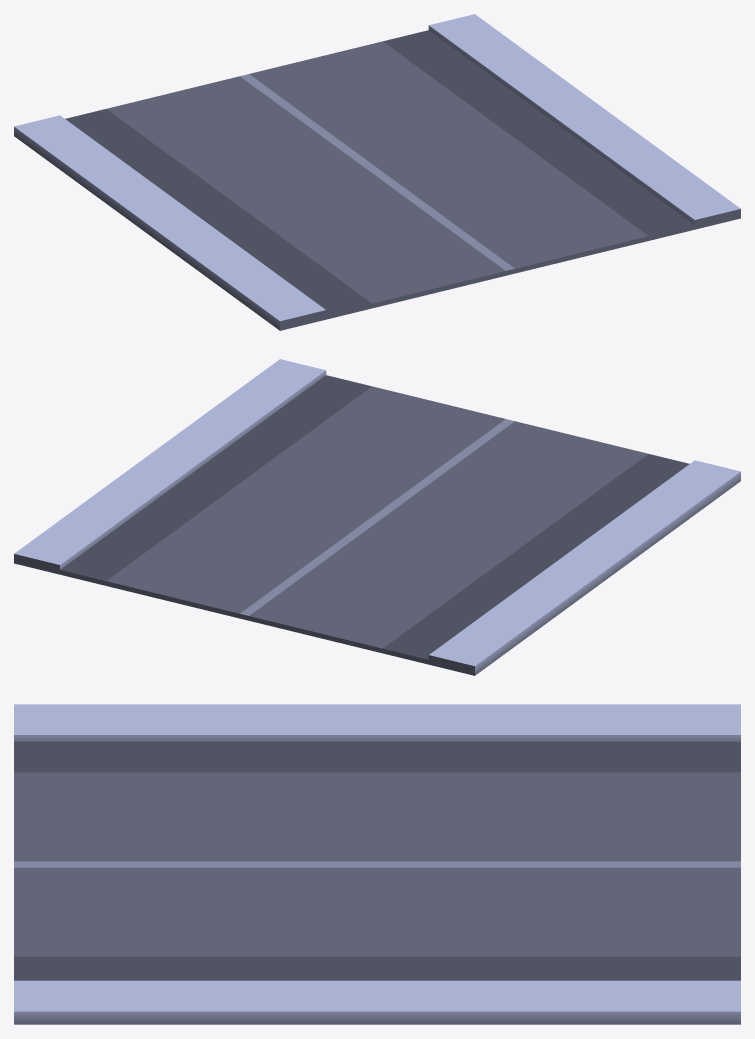
Rendered from Road-subdi.glb.
3 renders of one model, top to bottom at view 1: azimuth 30°, elevation 25°; view 2: azimuth 150°, elevation 25°; view 3: azimuth 270°, elevation 25°, orthographic. The views are drawn at different scales.
Visible parts, largest first — view 1: road-straight; view 2: road-straight; view 3: road-straight.
Part boxes in pixels (bbox=[...]): road-straight: bbox=[14, 14, 740, 330]; road-straight: bbox=[14, 359, 740, 675]; road-straight: bbox=[14, 704, 740, 1024].
Size of the model in its own units: 1 by 0.02 by 1.
1 material, 1 textured.
